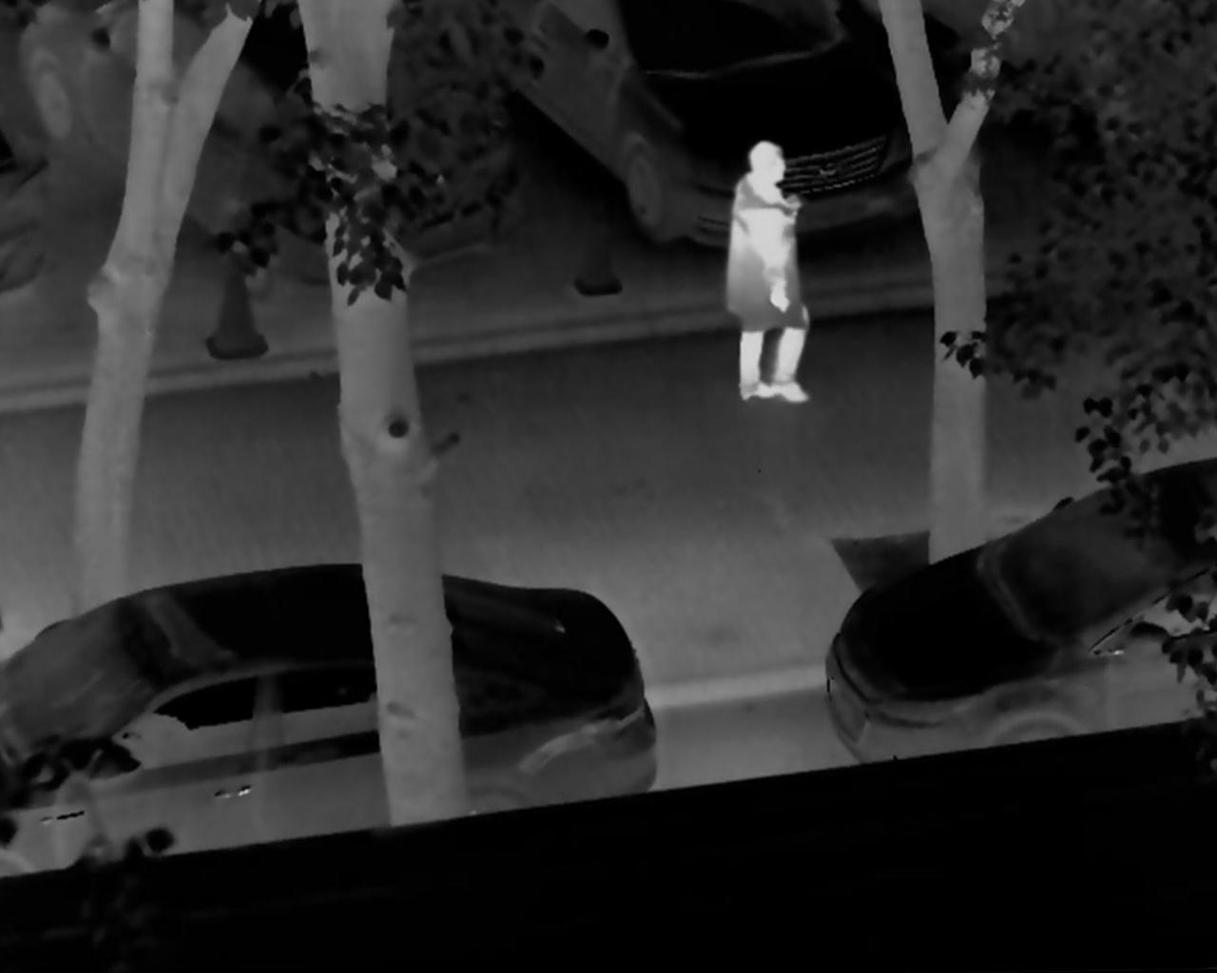person: (708, 143, 822, 411)
